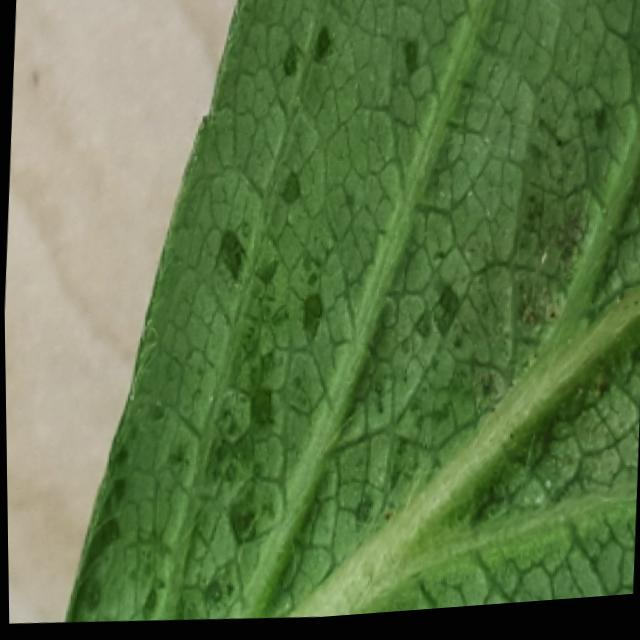Angular Leafspot: (64, 0, 640, 623)
